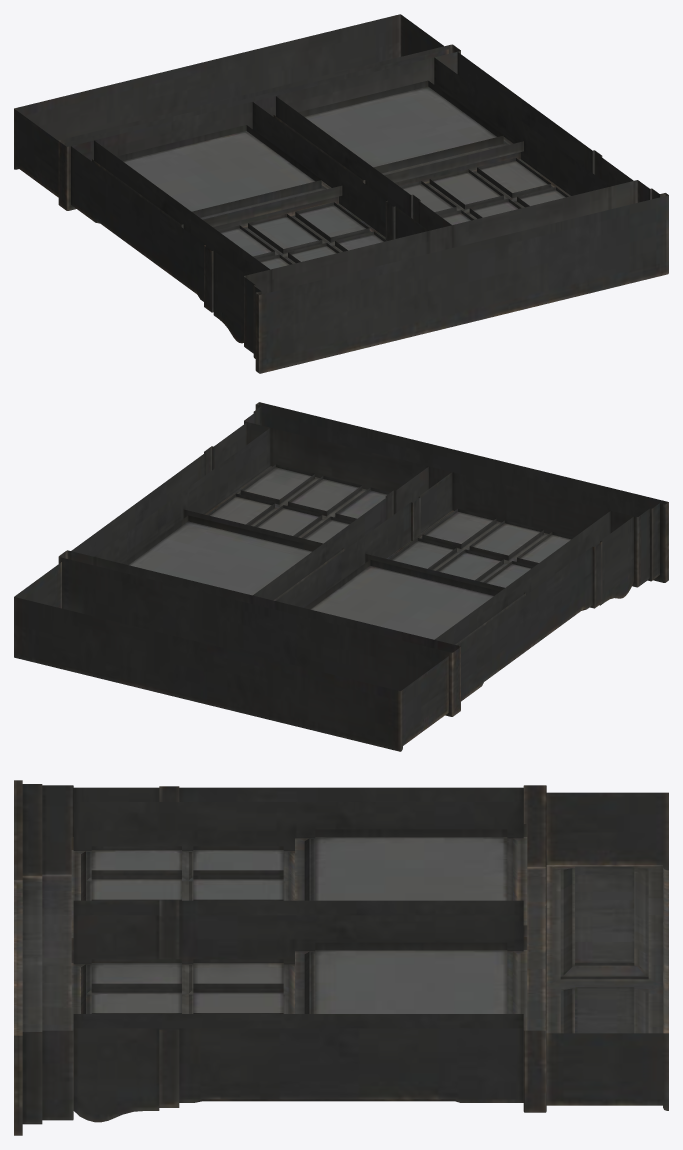
The model's file is window_centered_large_01.gltf.
The picture shows the model from 3 angles, top to bottom: view 1: azimuth 30°, elevation 25°; view 2: azimuth 150°, elevation 25°; view 3: azimuth 270°, elevation 25°; orthographic projection. The views are drawn at different scales.
Parts seen in each view (by area): view 1: window_centered_large_01; view 2: window_centered_large_01; view 3: window_centered_large_01.
Boxes of the visible parts, x1,y1,x2,y2 form: window_centered_large_01: [14, 14, 668, 373]; window_centered_large_01: [14, 402, 668, 751]; window_centered_large_01: [14, 780, 668, 1135].
Size of the model in its own units: 2.12 by 0.39 by 2.3.
2 materials, 2 textured.
